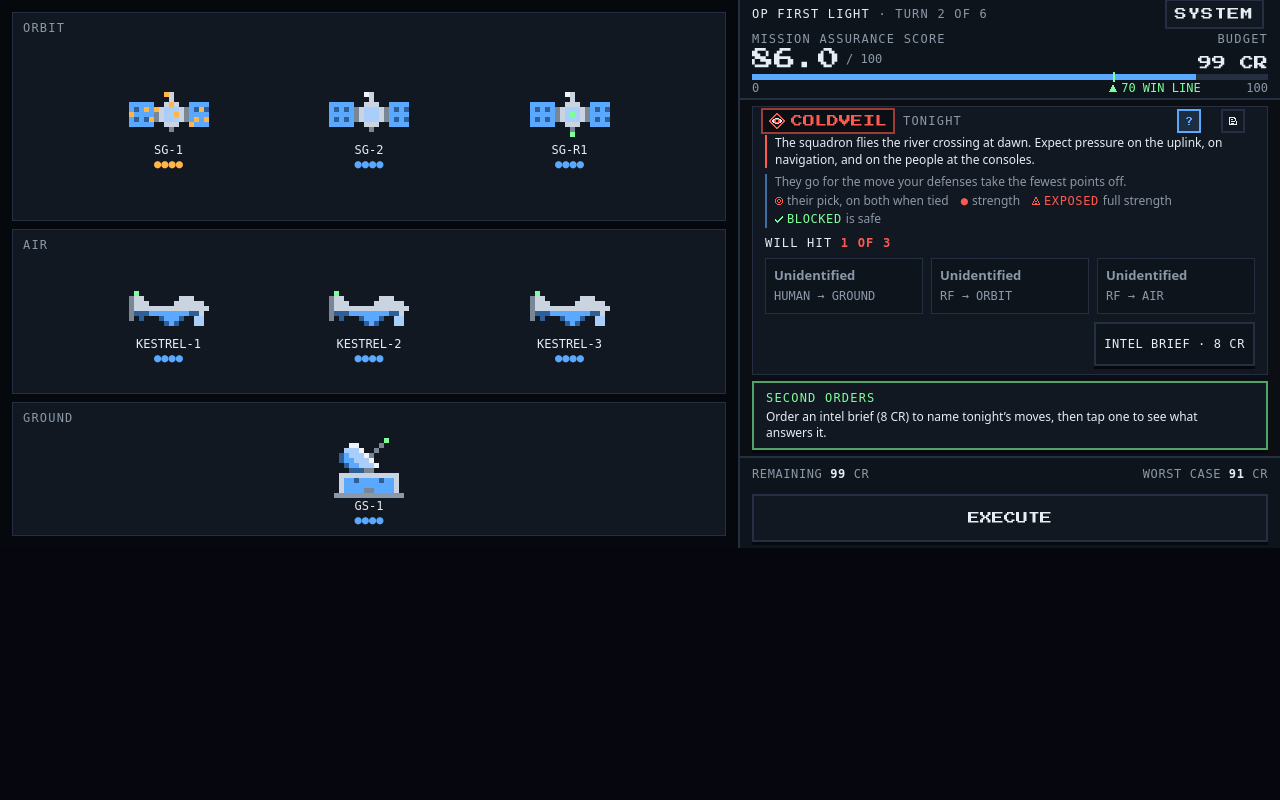
Test: GUARD R3 (d): END OF TURN's rows add up to the next budget the engine reports › adds up live, at the end of a night
Click the button "EXECUTE" at (1010, 518), box [752,494,1268,542]
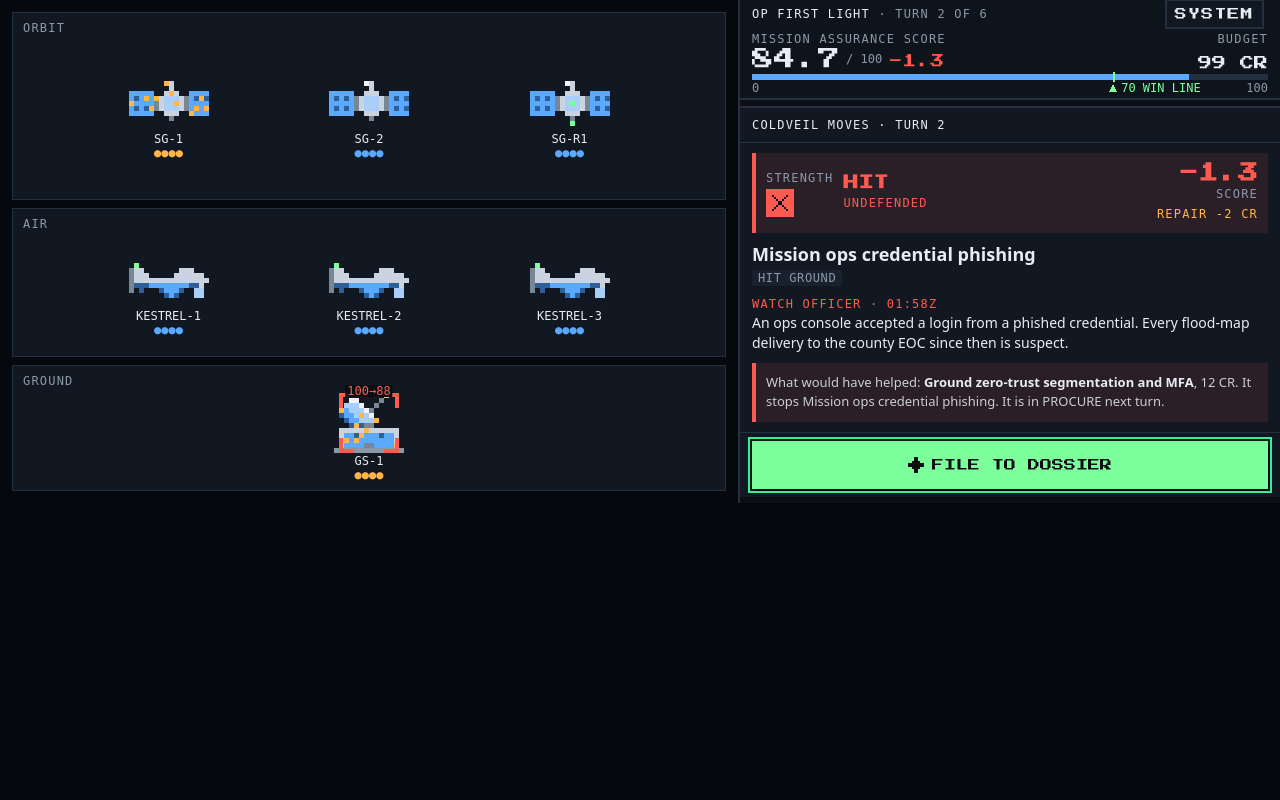
Click the button "FILE TO DOSSIER" at (1010, 465), box [752,441,1268,489]
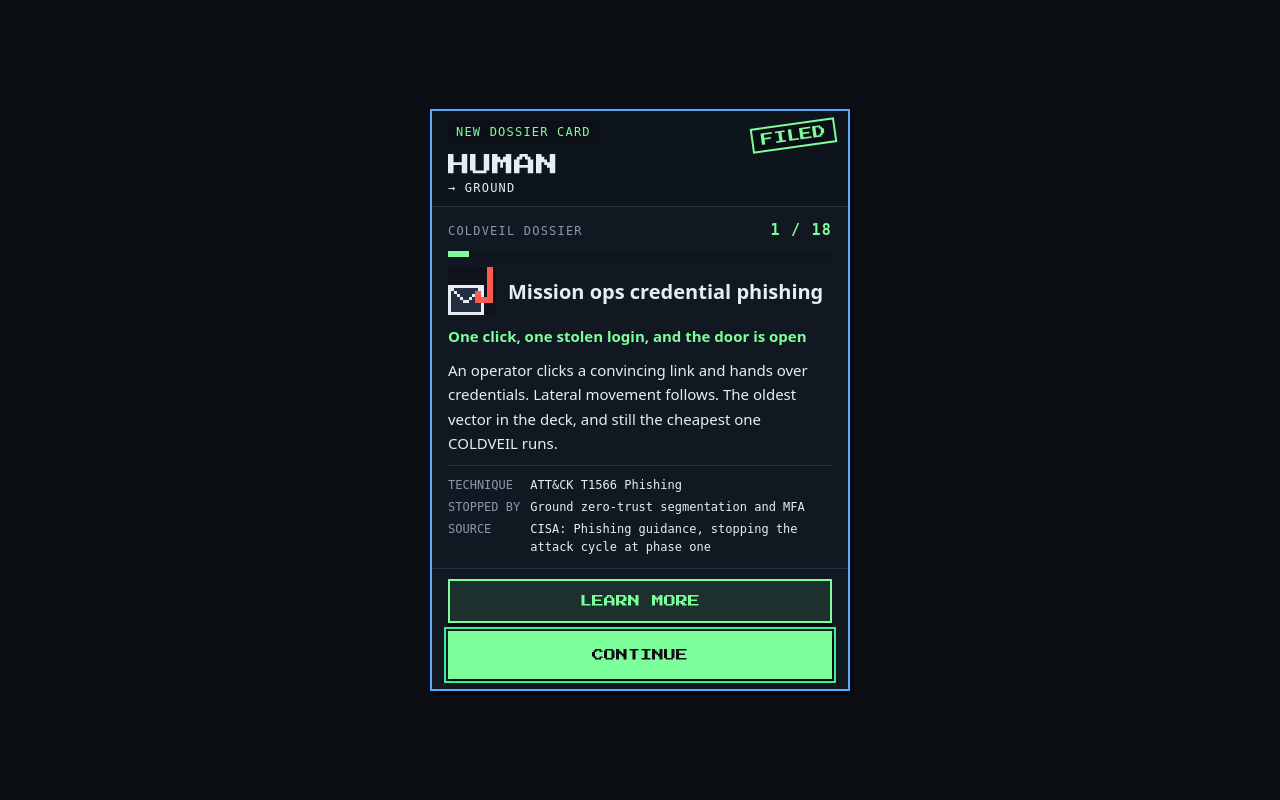
Click the button "CONTINUE" at (640, 655), box [448,631,832,679]
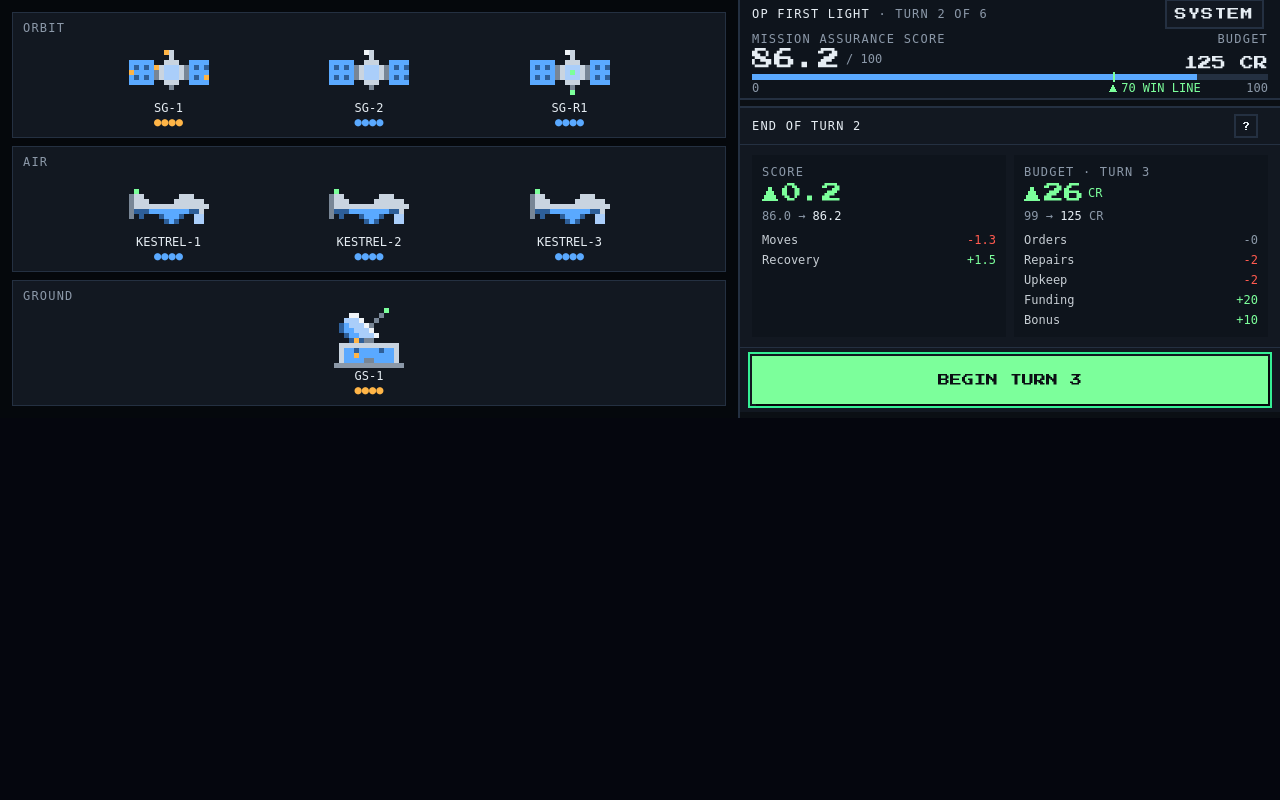
Expected: the element showing "99 → 125 CR" is shown, [1024,209,1104,223]
